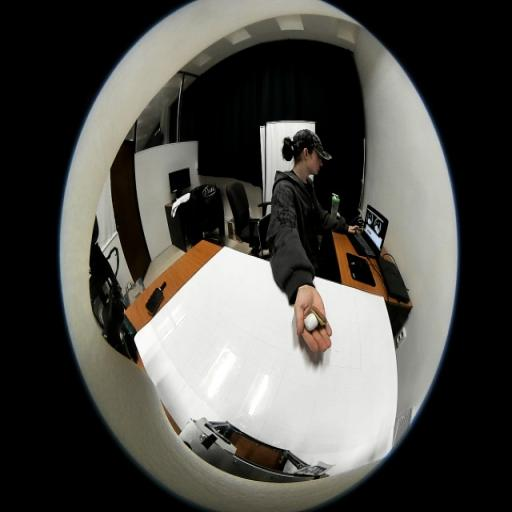Mushroom: (305, 306, 326, 331)
